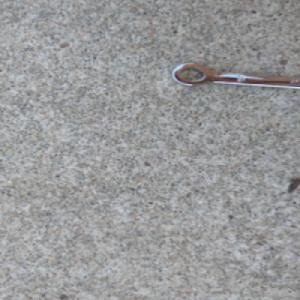Wrench: (169, 61, 300, 90)
